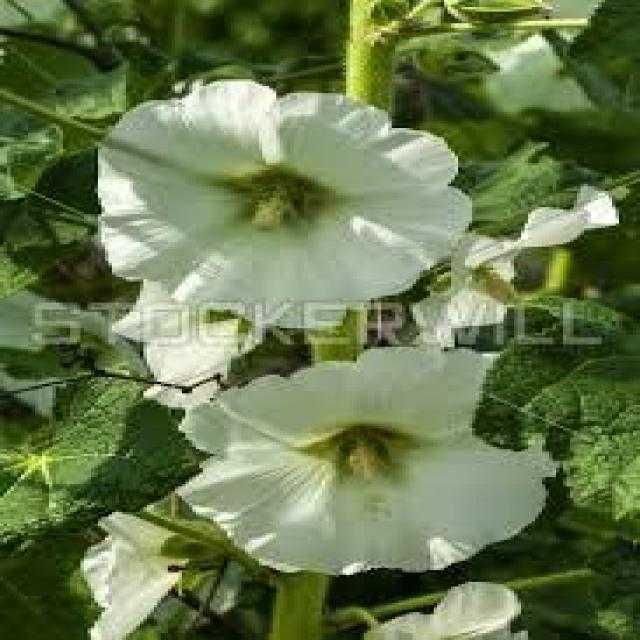organic waste: (91, 79, 479, 335), (154, 355, 556, 576)
